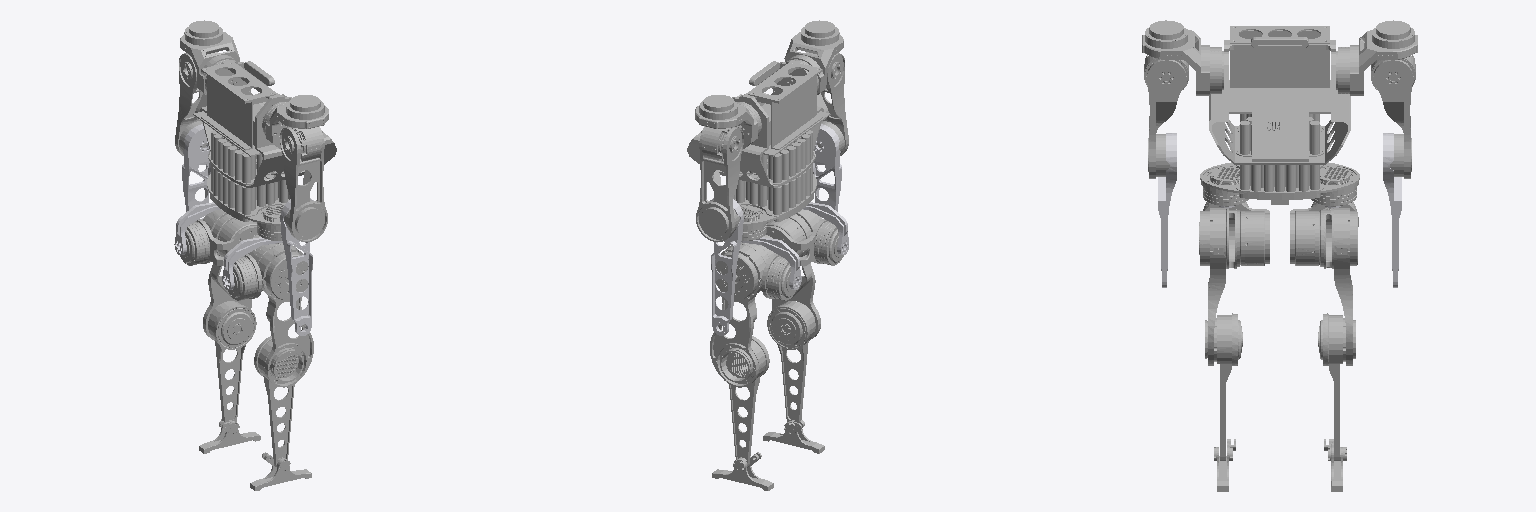
--- Render facts (derived) ---
Views: 3 orthographic renders of the robot side by side, from view 1: azimuth 30°, elevation 25°; view 2: azimuth 150°, elevation 25°; view 3: azimuth 270°, elevation 25°.
Model biped_v2 with 20 links and 19 joints (18 revolute, 1 floating), rooted at world, posed all joints at 0.
Links seen in each view (by area): view 1: torso, r_uarm, r_uleg, l_lleg, r_lleg, l_uleg_x, l_uarm_y, r_uarm_y, r_larm, l_uarm, l_larm, l_uleg (+6 smaller); view 2: torso, l_uleg, l_uarm, r_lleg, l_lleg, r_uleg_x, r_uarm_y, l_uarm_y, l_larm, r_uarm, r_larm, r_uleg (+6 smaller); view 3: torso, r_uleg, r_uarm_y, l_uarm_y, l_uleg, r_uarm, l_uarm, r_lleg, l_lleg, l_uleg_x, r_uleg_x, l_larm (+3 smaller).
Boxes of the visible links, <box> form: torso: <box>193,60,336,240</box>; r_uarm: <box>280,126,327,242</box>; r_uleg: <box>254,243,313,387</box>; l_lleg: <box>208,301,256,421</box>; r_lleg: <box>254,336,303,467</box>; l_uleg_x: <box>180,218,257,265</box>; l_uarm_y: <box>180,20,239,94</box>; r_uarm_y: <box>262,95,328,148</box>; r_larm: <box>280,198,313,335</box>; l_uarm: <box>175,52,218,155</box>; l_larm: <box>182,124,210,219</box>; l_uleg: <box>203,209,251,340</box>; torso: <box>687,60,830,240</box>; l_uleg: <box>710,242,768,387</box>; l_uarm: <box>696,126,743,241</box>; r_lleg: <box>767,301,815,422</box>; l_lleg: <box>720,336,769,467</box>; r_uleg_x: <box>766,218,843,265</box>; r_uarm_y: <box>784,20,843,94</box>; l_uarm_y: <box>695,95,761,148</box>; l_larm: <box>710,198,743,335</box>; r_uarm: <box>805,52,848,155</box>; r_larm: <box>813,124,841,211</box>; r_uleg: <box>772,209,821,340</box>; torso: <box>1200,26,1359,206</box>; r_uleg: <box>1199,208,1239,365</box>; r_uarm_y: <box>1142,20,1223,95</box>; l_uarm_y: <box>1336,20,1417,95</box>; l_uleg: <box>1320,208,1357,365</box>; r_uarm: <box>1147,59,1185,178</box>; l_uarm: <box>1374,60,1412,178</box>; r_lleg: <box>1205,313,1242,460</box>; l_lleg: <box>1318,313,1355,460</box>; l_uleg_x: <box>1290,202,1358,265</box>; r_uleg_x: <box>1203,202,1269,265</box>; l_larm: <box>1383,133,1401,287</box>.
Size in the robot's own frame: 0.313 by 0.568 by 1.02 metres.
19 mesh visuals loaded from 19 distinct referenced files (19 OBJ).

URDF robot description (biped_v2):
<?xml version="1.0" encoding="utf-8"?>
<!-- This URDF was automatically created by SolidWorks to URDF Exporter! Originally created by Stephen Brawner ([email redacted]) 
     Commit Version: 1.6.0-4-g7f85cfe  Build Version: 1.6.7995.38578
     For more information, please see http://wiki.ros.org/sw_urdf_exporter -->
<robot
  name="biped_v2">
  <mujoco>
    <compiler strippath="false" discardvisual="false"/>
  </mujoco>
  <link name="world"/>
  <joint name="world_joint" type="floating">
    <parent link="world"/>
    <child link="torso"/>
  </joint>
  <link
    name="torso">
    <inertial>
      <origin
        xyz="0.0089994 4.841E-05 0.0711"
        rpy="0 0 0" />
      <mass
        value="13.13" />
      <inertia
        ixx="0.04753"
        ixy="8.2124E-07"
        ixz="0.0012659"
        iyy="0.024162"
        iyz="4.7311E-07"
        izz="0.043368" />
    </inertial>
    <visual>
      <origin
        xyz="0 0 0"
        rpy="0 0 0" />
      <geometry>
        <mesh
          filename="./meshes/torso.obj" />
      </geometry>
      <material
        name="">
        <color
          rgba="0.75294 0.75294 0.75294 1" />
      </material>
    </visual>
    <collision>
      <origin
        xyz="0 0 0"
        rpy="0 0 0" />
      <geometry>
        <mesh
          filename="./meshes/torso.obj" />
      </geometry>
    </collision>
  </link>
  <link
    name="l_uleg_z">
    <inertial>
      <origin
        xyz="-0.086894 1.1718E-10 -0.019971"
        rpy="0 0 0" />
      <mass
        value="0.23915" />
      <inertia
        ixx="0.00019621"
        ixy="2.8207E-08"
        ixz="-0.00020599"
        iyy="0.000693"
        iyz="2.8208E-08"
        izz="0.00052444" />
    </inertial>
    <visual>
      <origin
        xyz="0 0 0"
        rpy="0 0 0" />
      <geometry>
        <mesh
          filename="./meshes/l_uleg_z.obj" />
      </geometry>
      <material
        name="">
        <color
          rgba="0.86667 0.86667 0.8902 1" />
      </material>
    </visual>
    <collision>
      <origin
        xyz="0 0 0"
        rpy="0 0 0" />
      <geometry>
        <mesh
          filename="./meshes/l_uleg_z.obj" />
      </geometry>
    </collision>
  </link>
  <joint
    name="l_hip_z"
    type="revolute">
    <origin
      xyz="0 0.11 -0.0965"
      rpy="0 0 0" />
    <parent
      link="torso" />
    <child
      link="l_uleg_z" />
    <axis
      xyz="0 0 1" />
    <limit
      lower="-1.04"
      upper="1.04"
      effort="48"
      velocity="25" />
  </joint>
  <transmission type="SimpleTransmission">
    <joint name="l_hip_z"/>
    <actuator name="l_hip_z_motor"/>
  </transmission>
  <link
    name="l_uleg_x">
    <inertial>
      <origin
        xyz="0.091572 -0.03382 -4.1689E-05"
        rpy="0 0 0" />
      <mass
        value="2.4984" />
      <inertia
        ixx="0.002874"
        ixy="0.00028125"
        ixz="7.8653E-07"
        iyy="0.0035088"
        iyz="1.2225E-07"
        izz="0.0028211" />
    </inertial>
    <visual>
      <origin
        xyz="0 0 0"
        rpy="0 0 0" />
      <geometry>
        <mesh
          filename="./meshes/l_uleg_x.obj" />
      </geometry>
      <material
        name="">
        <color
          rgba="0.75294 0.75294 0.75294 1" />
      </material>
    </visual>
    <collision>
      <origin
        xyz="0 0 0"
        rpy="0 0 0" />
      <geometry>
        <mesh
          filename="./meshes/l_uleg_x.obj" />
      </geometry>
    </collision>
  </link>
  <joint
    name="l_hip_x"
    type="revolute">
    <origin
      xyz="-0.1335 0 -0.08"
      rpy="0 0 0" />
    <parent
      link="l_uleg_z" />
    <child
      link="l_uleg_x" />
    <axis
      xyz="1 0 0" />
    <limit
      lower="-0.52"
      upper="1.57"
      effort="48"
      velocity="25" />
  </joint>
  <transmission type="SimpleTransmission">
    <joint name="l_hip_x"/>
    <actuator name="l_hip_x_motor"/>
  </transmission>
  <link
    name="l_uleg">
    <inertial>
      <origin
        xyz="0.00102 0.018509 -0.021513"
        rpy="0 0 0" />
      <mass
        value="2.2508" />
      <inertia
        ixx="0.007381"
        ixy="-3.1108E-05"
        ixz="0.00037536"
        iyy="0.0095158"
        iyz="0.00052692"
        izz="0.0025951" />
    </inertial>
    <visual>
      <origin
        xyz="0 0 0"
        rpy="0 0 0" />
      <geometry>
        <mesh
          filename="./meshes/l_uleg.obj" />
      </geometry>
      <material
        name="">
        <color
          rgba="0.75294 0.75294 0.75294 1" />
      </material>
    </visual>
    <collision>
      <origin
        xyz="0 0 0"
        rpy="0 0 0" />
      <geometry>
        <mesh
          filename="./meshes/l_uleg.obj" />
      </geometry>
    </collision>
  </link>
  <joint
    name="l_hip_y"
    type="revolute">
    <origin
      xyz="0.1355 -0.0015484 0"
      rpy="0 0 0" />
    <parent
      link="l_uleg_x" />
    <child
      link="l_uleg" />
    <axis
      xyz="0 1 0" />
    <limit
      lower="-1.74"
      upper="0.52"
      effort="74"
      velocity="47" />
  </joint>
  <transmission type="SimpleTransmission">
    <joint name="l_hip_y"/>
    <actuator name="l_hip_y_motor"/>
  </transmission>
  <link
    name="l_lleg">
    <inertial>
      <origin
        xyz="-4.8585E-05 -0.03165 -0.018299"
        rpy="0 0 0" />
      <mass
        value="1.3508" />
      <inertia
        ixx="0.0040885"
        ixy="-1.8264E-07"
        ixz="3.2084E-07"
        iyy="0.0046773"
        iyz="-5.8388E-05"
        izz="0.0010996" />
    </inertial>
    <visual>
      <origin
        xyz="0 0 0"
        rpy="0 0 0" />
      <geometry>
        <mesh
          filename="./meshes/l_lleg.obj" />
      </geometry>
      <material
        name="">
        <color
          rgba="0.75294 0.75294 0.75294 1" />
      </material>
    </visual>
    <collision>
      <origin
        xyz="0 0 0"
        rpy="0 0 0" />
      <geometry>
        <mesh
          filename="./meshes/l_lleg.obj" />
      </geometry>
    </collision>
  </link>
  <joint
    name="l_knee"
    type="revolute">
    <origin
      xyz="0 0.03365 -0.23"
      rpy="0 0 0" />
    <parent
      link="l_uleg" />
    <child
      link="l_lleg" />
    <axis
      xyz="0 1 0" />
    <limit
      lower="-0.174"
      upper="2.53"
      effort="74"
      velocity="47" />
  </joint>
  <transmission type="SimpleTransmission">
    <joint name="l_knee"/>
    <actuator name="l_knee_motor"/>
  </transmission>
  <link
    name="l_foot">
    <inertial>
      <origin
        xyz="-0.0017103 -0.0012414 -0.028758"
        rpy="0 0 0" />
      <mass
        value="0.19291" />
      <inertia
        ixx="6.7544E-05"
        ixy="-5.0585E-06"
        ixz="1.3775E-05"
        iyy="0.00030983"
        iyz="9.9132E-06"
        izz="0.00027205" />
    </inertial>
    <visual>
      <origin
        xyz="0 0 0"
        rpy="0 0 0" />
      <geometry>
        <mesh
          filename="./meshes/l_foot.obj" />
      </geometry>
      <material
        name="">
        <color
          rgba="0.75294 0.75294 0.75294 1" />
      </material>
    </visual>
    <collision>
      <origin
        xyz="0 0 0"
        rpy="0 0 0" />
      <geometry>
        <mesh
          filename="./meshes/l_foot.obj" />
      </geometry>
    </collision>
  </link>
  <frame link="l_foot" name="l_foot_sole" xyz="0 0 -0.05"/>
  <frame link="l_foot" name="l_foot_toe" xyz="0.075 0 -0.05"/>
  <frame link="l_foot" name="l_foot_heel" xyz="-0.075 0 -0.05"/>
  <joint
    name="l_ankle"
    type="revolute">
    <origin
      xyz="0 -0.0239 -0.26"
      rpy="0 0 0" />
    <parent
      link="l_lleg" />
    <child
      link="l_foot" />
    <axis
      xyz="0 1 0" />
    <limit
      lower="-1.39"
      upper="0.52"
      effort="48"
      velocity="25" />
  </joint>
  <transmission type="SimpleTransmission">
    <joint name="l_ankle"/>
    <actuator name="l_ankle_motor"/>
  </transmission>
  <link
    name="r_uleg_z">
    <inertial>
      <origin
        xyz="-0.086894 1.1718E-10 -0.019971"
        rpy="0 0 0" />
      <mass
        value="0.23915" />
      <inertia
        ixx="0.00019621"
        ixy="2.8207E-08"
        ixz="-0.00020599"
        iyy="0.000693"
        iyz="2.8208E-08"
        izz="0.00052444" />
    </inertial>
    <visual>
      <origin
        xyz="0 0 0"
        rpy="0 0 0" />
      <geometry>
        <mesh
          filename="./meshes/r_uleg_z.obj" />
      </geometry>
      <material
        name="">
        <color
          rgba="0.86667 0.86667 0.8902 1" />
      </material>
    </visual>
    <collision>
      <origin
        xyz="0 0 0"
        rpy="0 0 0" />
      <geometry>
        <mesh
          filename="./meshes/r_uleg_z.obj" />
      </geometry>
    </collision>
  </link>
  <joint
    name="r_hip_z"
    type="revolute">
    <origin
      xyz="0 -0.11 -0.0965"
      rpy="0 0 0" />
    <parent
      link="torso" />
    <child
      link="r_uleg_z" />
    <axis
      xyz="0 0 1" />
    <limit
      lower="-1.04"
      upper="1.04"
      effort="48"
      velocity="25" />
  </joint>
  <transmission type="SimpleTransmission">
    <joint name="r_hip_z"/>
    <actuator name="r_hip_z_motor"/>
  </transmission>
  <link
    name="r_uleg_x">
    <inertial>
      <origin
        xyz="0.091614 0.033814 -6.3136E-05"
        rpy="0 0 0" />
      <mass
        value="2.4984" />
      <inertia
        ixx="0.0028694"
        ixy="-0.00028224"
        ixz="-2.7675E-06"
        iyy="0.0035087"
        iyz="6.8462E-07"
        izz="0.0028259" />
    </inertial>
    <visual>
      <origin
        xyz="0 0 0"
        rpy="0 0 0" />
      <geometry>
        <mesh
          filename="./meshes/r_uleg_x.obj" />
      </geometry>
      <material
        name="">
        <color
          rgba="0.75294 0.75294 0.75294 1" />
      </material>
    </visual>
    <collision>
      <origin
        xyz="0 0 0"
        rpy="0 0 0" />
      <geometry>
        <mesh
          filename="./meshes/r_uleg_x.obj" />
      </geometry>
    </collision>
  </link>
  <joint
    name="r_hip_x"
    type="revolute">
    <origin
      xyz="-0.1335 0 -0.08"
      rpy="0 0 0" />
    <parent
      link="r_uleg_z" />
    <child
      link="r_uleg_x" />
    <axis
      xyz="1 0 0" />
    <limit
      lower="-1.57"
      upper="0.52"
      effort="48"
      velocity="25" />
  </joint>
  <transmission type="SimpleTransmission">
    <joint name="r_hip_x"/>
    <actuator name="r_hip_x_motor"/>
  </transmission>
  <link
    name="r_uleg">
    <inertial>
      <origin
        xyz="0.00097425 -0.021838 -0.021516"
        rpy="0 0 0" />
      <mass
        value="2.2508" />
      <inertia
        ixx="0.0073847"
        ixy="3.0173E-05"
        ixz="0.0003777"
        iyy="0.0095158"
        iyz="-0.00052695"
        izz="0.0025913" />
    </inertial>
    <visual>
      <origin
        xyz="0 0 0"
        rpy="0 0 0" />
      <geometry>
        <mesh
          filename="./meshes/r_uleg.obj" />
      </geometry>
      <material
        name="">
        <color
          rgba="0.75294 0.75294 0.75294 1" />
      </material>
    </visual>
    <collision>
      <origin
        xyz="0 0 0"
        rpy="0 0 0" />
      <geometry>
        <mesh
          filename="./meshes/r_uleg.obj" />
      </geometry>
    </collision>
  </link>
  <joint
    name="r_hip_y"
    type="revolute">
    <origin
      xyz="0.1355 0.0025484 0"
      rpy="0 0 0" />
    <parent
      link="r_uleg_x" />
    <child
      link="r_uleg" />
    <axis
      xyz="0 1 0" />
    <limit
      lower="-1.74"
      upper="0.52"
      effort="74"
      velocity="47" />
  </joint>
  <transmission type="SimpleTransmission">
    <joint name="r_hip_y"/>
    <actuator name="r_hip_y_motor"/>
  </transmission>
  <link
    name="r_lleg">
    <inertial>
      <origin
        xyz="1.503E-05 0.03165 -0.018335"
        rpy="0 0 0" />
      <mass
        value="1.3508" />
      <inertia
        ixx="0.0040863"
        ixy="-5.3705E-08"
        ixz="-6.3356E-07"
        iyy="0.0046773"
        iyz="5.8528E-05"
        izz="0.0011018" />
    </inertial>
    <visual>
      <origin
        xyz="0 0 0"
        rpy="0 0 0" />
      <geometry>
        <mesh
          filename="./meshes/r_lleg.obj" />
      </geometry>
      <material
        name="">
        <color
          rgba="0.75294 0.75294 0.75294 1" />
      </material>
    </visual>
    <collision>
      <origin
        xyz="0 0 0"
        rpy="0 0 0" />
      <geometry>
        <mesh
          filename="./meshes/r_lleg.obj" />
      </geometry>
    </collision>
  </link>
  <joint
    name="r_knee"
    type="revolute">
    <origin
      xyz="0 -0.03365 -0.23"
      rpy="0 0 0" />
    <parent
      link="r_uleg" />
    <child
      link="r_lleg" />
    <axis
      xyz="0 1 0" />
    <limit
      lower="-0.174"
      upper="2.53"
      effort="74"
      velocity="47" />
  </joint>
  <transmission type="SimpleTransmission">
    <joint name="r_knee"/>
    <actuator name="r_knee_motor"/>
  </transmission>
  <link
    name="r_foot">
    <inertial>
      <origin
        xyz="-0.0017117 0.0012414 -0.028758"
        rpy="0 0 0" />
      <mass
        value="0.19291" />
      <inertia
        ixx="6.7548E-05"
        ixy="5.0585E-06"
        ixz="1.3775E-05"
        iyy="0.00030983"
        iyz="-9.9127E-06"
        izz="0.00027205" />
    </inertial>
    <visual>
      <origin
        xyz="0 0 0"
        rpy="0 0 0" />
      <geometry>
        <mesh
          filename="./meshes/r_foot.obj" />
      </geometry>
      <material
        name="">
        <color
          rgba="0.75294 0.75294 0.75294 1" />
      </material>
    </visual>
    <collision>
      <origin
        xyz="0 0 0"
        rpy="0 0 0" />
      <geometry>
        <mesh
          filename="./meshes/r_foot.obj" />
      </geometry>
    </collision>
  </link>
  <frame link="r_foot" name="r_foot_sole" xyz="0 0 -0.05"/>
  <frame link="r_foot" name="r_foot_toe" xyz="0.075 0 -0.05"/>
  <frame link="r_foot" name="r_foot_heel" xyz="-0.075 0 -0.05"/>
  <joint
    name="r_ankle"
    type="revolute">
    <origin
      xyz="0 0.0239 -0.26"
      rpy="0 0 0" />
    <parent
      link="r_lleg" />
    <child
      link="r_foot" />
    <axis
      xyz="0 1 0" />
    <limit
      lower="-1.39"
      upper="0.52"
      effort="48"
      velocity="25" />
  </joint>
  <transmission type="SimpleTransmission">
    <joint name="r_ankle"/>
    <actuator name="r_ankle_motor"/>
  </transmission>
  <link
    name="l_uarm_y">
    <inertial>
      <origin
        xyz="0.00028574 0.070052 0.028442"
        rpy="0 0 0" />
      <mass
        value="1.9072" />
      <inertia
        ixx="0.0020789"
        ixy="-3.3624E-06"
        ixz="-8.463E-06"
        iyy="0.0025249"
        iyz="-0.00027283"
        izz="0.0024093" />
    </inertial>
    <visual>
      <origin
        xyz="0 0 0"
        rpy="0 0 0" />
      <geometry>
        <mesh
          filename="./meshes/l_uarm_y.obj" />
      </geometry>
      <material
        name="">
        <color
          rgba="0.75294 0.75294 0.75294 1" />
      </material>
    </visual>
    <collision>
      <origin
        xyz="0 0 0"
        rpy="0 0 0" />
      <geometry>
        <mesh
          filename="./meshes/l_uarm_y.obj" />
      </geometry>
    </collision>
  </link>
  <joint
    name="l_shoulder_y"
    type="revolute">
    <origin
      xyz="0 0.107 0.204"
      rpy="0 0 0" />
    <parent
      link="torso" />
    <child
      link="l_uarm_y" />
    <axis
      xyz="0 1 0" />
    <limit
      lower="-3.14"
      upper="1.57"
      effort="48"
      velocity="25" />
  </joint>
  <transmission type="SimpleTransmission">
    <joint name="l_shoulder_y"/>
    <actuator name="l_shoulder_y_motor"/>
  </transmission>
  <link
    name="l_uarm_z">
    <inertial>
      <origin
        xyz="-0.0036271 -1.1381E-08 -0.052725"
        rpy="0 0 0" />
      <mass
        value="0.68812" />
      <inertia
        ixx="0.00073442"
        ixy="-8.1348E-11"
        ixz="-1.8497E-05"
        iyy="0.00050155"
        iyz="6.5854E-09"
        izz="0.00048799" />
    </inertial>
    <visual>
      <origin
        xyz="0 0 0"
        rpy="0 0 0" />
      <geometry>
        <mesh
          filename="./meshes/l_uarm_z.obj" />
      </geometry>
      <material
        name="">
        <color
          rgba="0.75294 0.75294 0.75294 1" />
      </material>
    </visual>
    <collision>
      <origin
        xyz="0 0 0"
        rpy="0 0 0" />
      <geometry>
        <mesh
          filename="./meshes/l_uarm_z.obj" />
      </geometry>
    </collision>
  </link>
  <joint
    name="l_shoulder_z"
    type="revolute">
    <origin
      xyz="0 0.1265 0.05025"
      rpy="0 0 0" />
    <parent
      link="l_uarm_y" />
    <child
      link="l_uarm_z" />
    <axis
      xyz="0 0 1" />
    <limit
      lower="-1.57"
      upper="1.57"
      effort="24.8"
      velocity="42" />
  </joint>
  <transmission type="SimpleTransmission">
    <joint name="l_shoulder_z"/>
    <actuator name="l_shoulder_z_motor"/>
  </transmission>
  <link
    name="l_uarm">
    <inertial>
      <origin
        xyz="0.0090481 0.012219 -0.13528"
        rpy="0 0 0" />
      <mass
        value="0.96113" />
      <inertia
        ixx="0.0024629"
        ixy="-8.3685E-06"
        ixz="2.2601E-05"
        iyy="0.0028091"
        iyz="0.00028922"
        izz="0.00086343" />
    </inertial>
    <visual>
      <origin
        xyz="0 0 0"
        rpy="0 0 0" />
      <geometry>
        <mesh
          filename="./meshes/l_uarm.obj" />
      </geometry>
      <material
        name="">
        <color
          rgba="0.75294 0.75294 0.75294 1" />
      </material>
    </visual>
    <collision>
      <origin
        xyz="0 0 0"
        rpy="0 0 0" />
      <geometry>
        <mesh
          filename="./meshes/l_uarm.obj" />
      </geometry>
    </collision>
  </link>
  <joint
    name="l_shoulder_x"
    type="revolute">
    <origin
      xyz="-0.0194 0 -0.05425"
      rpy="0 0 0" />
    <parent
      link="l_uarm_z" />
    <child
      link="l_uarm" />
    <axis
      xyz="1 0 0" />
    <limit
      lower="-0.174"
      upper="1.57"
      effort="24.8"
      velocity="42" />
  </joint>
  <transmission type="SimpleTransmission">
    <joint name="l_shoulder_x"/>
    <actuator name="l_shoulder_x_motor"/>
  </transmission>
  <link
    name="l_larm">
    <inertial>
      <origin
        xyz="-0.0047378 -0.017977 -0.071609"
        rpy="0 0 0" />
      <mass
        value="0.35371" />
      <inertia
        ixx="0.0032935"
        ixy="9.9505E-06"
        ixz="-2.6429E-05"
        iyy="0.0034588"
        iyz="0.00023816"
        izz="0.00023055" />
    </inertial>
    <visual>
      <origin
        xyz="0 0 0"
        rpy="0 0 0" />
      <geometry>
        <mesh
          filename="./meshes/l_larm.obj" />
      </geometry>
      <material
        name="">
        <color
          rgba="0.86667 0.86667 0.8902 1" />
      </material>
    </visual>
    <collision>
      <origin
        xyz="0 0 0"
        rpy="0 0 0" />
      <geometry>
        <mesh
          filename="./meshes/l_larm.obj" />
      </geometry>
    </collision>
  </link>
  <joint
    name="l_elbow"
    type="revolute">
    <origin
      xyz="0.01115 0.010475 -0.192"
      rpy="0 0 0" />
    <parent
      link="l_uarm" />
    <child
      link="l_larm" />
    <axis
      xyz="0 1 0" />
    <limit
      lower="-2.44"
      upper="0.174"
      effort="24.8"
      velocity="42" />
  </joint>
  <transmission type="SimpleTransmission">
    <joint name="l_elbow"/>
    <actuator name="l_elbow_motor"/>
  </transmission>
  <link
    name="r_uarm_y">
    <inertial>
      <origin
        xyz="-0.00028574 -0.070052 0.028442"
        rpy="0 0 0" />
      <mass
        value="1.9072" />
      <inertia
        ixx="0.0020789"
        ixy="-3.3624E-06"
        ixz="8.463E-06"
        iyy="0.0025249"
        iyz="0.00027283"
        izz="0.0024093" />
    </inertial>
    <visual>
      <origin
        xyz="0 0 0"
        rpy="0 0 0" />
      <geometry>
        <mesh
          filename="./meshes/r_uarm_y.obj" />
      </geometry>
      <material
        name="">
        <color
          rgba="0.75294 0.75294 0.75294 1" />
      </material>
    </visual>
    <collision>
      <origin
        xyz="0 0 0"
        rpy="0 0 0" />
      <geometry>
        <mesh
          filename="./meshes/r_uarm_y.obj" />
      </geometry>
    </collision>
  </link>
  <joint
    name="r_shoulder_y"
    type="revolute">
    <origin
      xyz="0 -0.107 0.204"
      rpy="0 0 0" />
    <parent
      link="torso" />
    <child
      link="r_uarm_y" />
    <axis
      xyz="0 1 0" />
    <limit
      lower="-3.14"
      upper="1.57"
      effort="48"
      velocity="25" />
  </joint>
  <transmission type="SimpleTransmission">
    <joint name="r_shoulder_y"/>
    <actuator name="r_shoulder_y_motor"/>
  </transmission>
  <link
    name="r_uarm_z">
    <inertial>
      <origin
        xyz="-0.0036271 -1.1381E-08 -0.052725"
        rpy="0 0 0" />
      <mass
        value="0.68812" />
      <inertia
        ixx="0.00073442"
        ixy="-8.1348E-11"
        ixz="-1.8497E-05"
        iyy="0.00050155"
        iyz="6.5854E-09"
        izz="0.00048799" />
    </inertial>
    <visual>
      <origin
        xyz="0 0 0"
        rpy="0 0 0" />
      <geometry>
        <mesh
          filename="./meshes/r_uarm_z.obj" />
      </geometry>
      <material
        name="">
        <color
          rgba="0.75294 0.75294 0.75294 1" />
      </material>
    </visual>
    <collision>
      <origin
        xyz="0 0 0"
        rpy="0 0 0" />
      <geometry>
        <mesh
          filename="./meshes/r_uarm_z.obj" />
      </geometry>
    </collision>
  </link>
  <joint
    name="r_shoulder_z"
    type="revolute">
    <origin
      xyz="0 -0.1265 0.05025"
      rpy="0 0 0" />
    <parent
      link="r_uarm_y" />
    <child
      link="r_uarm_z" />
    <axis
      xyz="0 0 1" />
    <limit
      lower="-1.57"
      upper="1.57"
      effort="24.8"
      velocity="42" />
  </joint>
  <transmission type="SimpleTransmission">
    <joint name="r_shoulder_z"/>
    <actuator name="r_shoulder_z_motor"/>
  </transmission>
  <link
    name="r_uarm">
    <inertial>
      <origin
        xyz="0.0090297 -0.012326 -0.13605"
        rpy="0 0 0" />
      <mass
        value="0.95281" />
      <inertia
        ixx="0.0024554"
        ixy="8.7516E-06"
        ixz="2.331E-05"
        iyy="0.0028034"
        iyz="-0.00028669"
        izz="0.00085957" />
    </inertial>
    <visual>
      <origin
        xyz="0 0 0"
        rpy="0 0 0" />
      <geometry>
        <mesh
          filename="./meshes/r_uarm.obj" />
      </geometry>
      <material
        name="">
        <color
          rgba="0.75294 0.75294 0.75294 1" />
      </material>
    </visual>
    <collision>
      <origin
        xyz="0 0 0"
        rpy="0 0 0" />
      <geometry>
        <mesh
          filename="./meshes/r_uarm.obj" />
      </geometry>
    </collision>
  </link>
  <joint
    name="r_shoulder_x"
    type="revolute">
    <origin
      xyz="-0.0194 0 -0.05425"
      rpy="0 0 0" />
    <parent
      link="r_uarm_z" />
    <child
      link="r_uarm" />
    <axis
      xyz="1 0 0" />
    <limit
      lower="-1.57"
      upper="0.174"
      effort="24.8"
      velocity="42" />
  </joint>
  <transmission type="SimpleTransmission">
    <joint name="r_shoulder_x"/>
    <actuator name="r_shoulder_x_motor"/>
  </transmission>
  <link
    name="r_larm">
    <inertial>
      <origin
        xyz="-0.0047375 0.017977 -0.071609"
        rpy="0 0 0" />
      <mass
        value="0.35371" />
      <inertia
        ixx="0.0032935"
        ixy="-9.9509E-06"
        ixz="-2.643E-05"
        iyy="0.0034588"
        iyz="-0.00023816"
        izz="0.00023055" />
    </inertial>
    <visual>
      <origin
        xyz="0 0 0"
        rpy="0 0 0" />
      <geometry>
        <mesh
          filename="./meshes/r_larm.obj" />
      </geometry>
      <material
        name="">
        <color
          rgba="0.86667 0.86667 0.8902 1" />
      </material>
    </visual>
    <collision>
      <origin
        xyz="0 0 0"
        rpy="0 0 0" />
      <geometry>
        <mesh
          filename="./meshes/r_larm.obj" />
      </geometry>
    </collision>
  </link>
  <joint
    name="r_elbow"
    type="revolute">
    <origin
      xyz="0.01115 -0.010475 -0.192"
      rpy="0 0 0" />
    <parent
      link="r_uarm" />
    <child
      link="r_larm" />
    <axis
      xyz="0 1 0" />
    <limit
      lower="-2.44"
      upper="0.174"
      effort="24.8"
      velocity="42" />
  </joint>
  <transmission type="SimpleTransmission">
    <joint name="r_elbow"/>
    <actuator name="r_elbow_motor"/>
  </transmission>
</robot>
